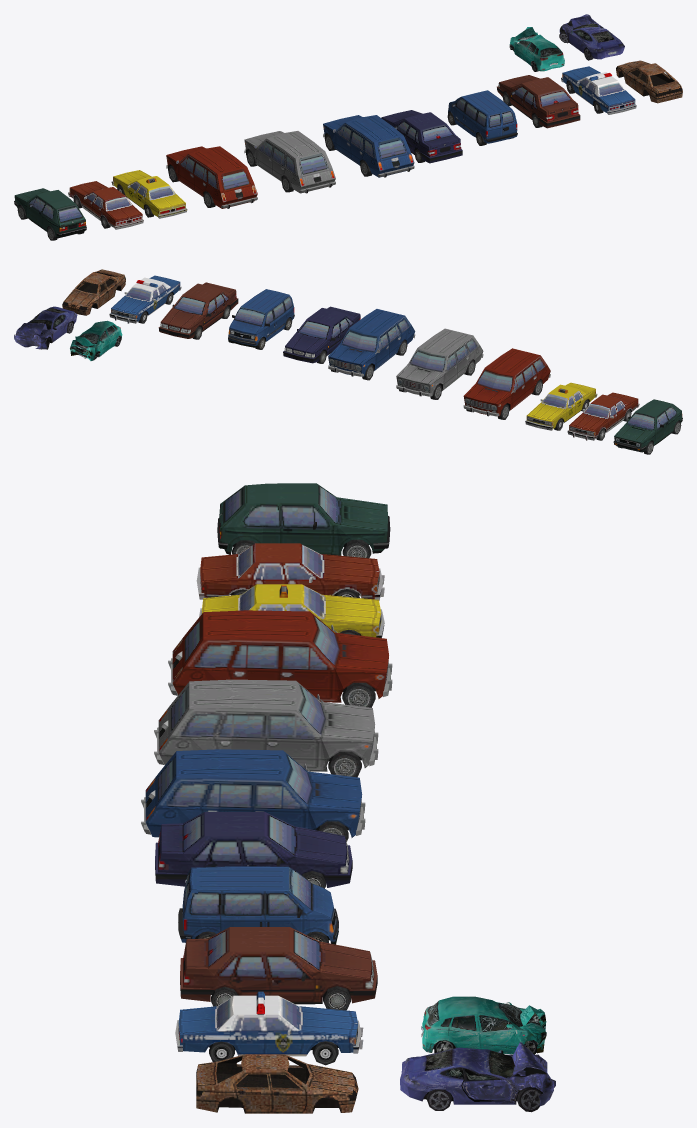
File: ps2_car_pack.glb
The picture shows the model from 3 angles, top to bottom: view 1: azimuth 30°, elevation 25°; view 2: azimuth 150°, elevation 25°; view 3: azimuth 270°, elevation 25°; orthographic projection. The views are drawn at different scales.
Visible parts, largest first — view 1: Object_5, Object_2, Object_7, Object_4, Object_8, Object_3, Object_6, Object_10, Object_9, Object_11, Object_14, Object_12 (+1 smaller); view 2: Object_7, Object_5, Object_2, Object_4, Object_8, Object_3, Object_6, Object_10, Object_9, Object_11, Object_12, Object_14 (+1 smaller); view 3: Object_5, Object_2, Object_7, Object_4, Object_3, Object_6, Object_10, Object_8, Object_12, Object_14, Object_9, Object_13 (+1 smaller).
Part boxes in pixels (bbox=[...]): Object_5: bbox=[244, 131, 335, 193]; Object_2: bbox=[166, 146, 257, 208]; Object_7: bbox=[323, 115, 414, 177]; Object_4: bbox=[497, 75, 580, 128]; Object_8: bbox=[447, 90, 517, 145]; Object_3: bbox=[381, 110, 462, 163]; Object_6: bbox=[14, 188, 86, 240]; Object_10: bbox=[561, 66, 636, 114]; Object_9: bbox=[68, 181, 143, 229]; Object_11: bbox=[111, 170, 187, 218]; Object_14: bbox=[559, 14, 624, 60]; Object_12: bbox=[616, 60, 682, 103]; Object_7: bbox=[328, 309, 415, 380]; Object_5: bbox=[396, 328, 483, 399]; Object_2: bbox=[463, 348, 550, 419]; Object_4: bbox=[158, 282, 238, 339]; Object_8: bbox=[228, 289, 294, 349]; Object_3: bbox=[283, 306, 360, 363]; Object_6: bbox=[613, 399, 682, 454]; Object_10: bbox=[109, 275, 181, 323]; Object_9: bbox=[567, 392, 639, 440]; Object_11: bbox=[525, 382, 597, 430]; Object_12: bbox=[62, 269, 125, 315]; Object_14: bbox=[14, 306, 77, 349]; Object_5: bbox=[154, 679, 378, 777]; Object_2: bbox=[168, 610, 392, 707]; Object_7: bbox=[141, 749, 365, 841]; Object_4: bbox=[180, 927, 377, 1010]; Object_3: bbox=[155, 812, 352, 888]; Object_6: bbox=[217, 483, 390, 558]; Object_10: bbox=[175, 991, 363, 1065]; Object_8: bbox=[178, 866, 338, 944]; Object_12: bbox=[196, 1054, 358, 1113]; Object_14: bbox=[400, 1042, 555, 1112]; Object_9: bbox=[196, 543, 384, 600]; Object_13: bbox=[421, 996, 546, 1054].
Bounding box in the file's own units: 210 × 12.17 × 63.69.
13 materials, 13 textured.
